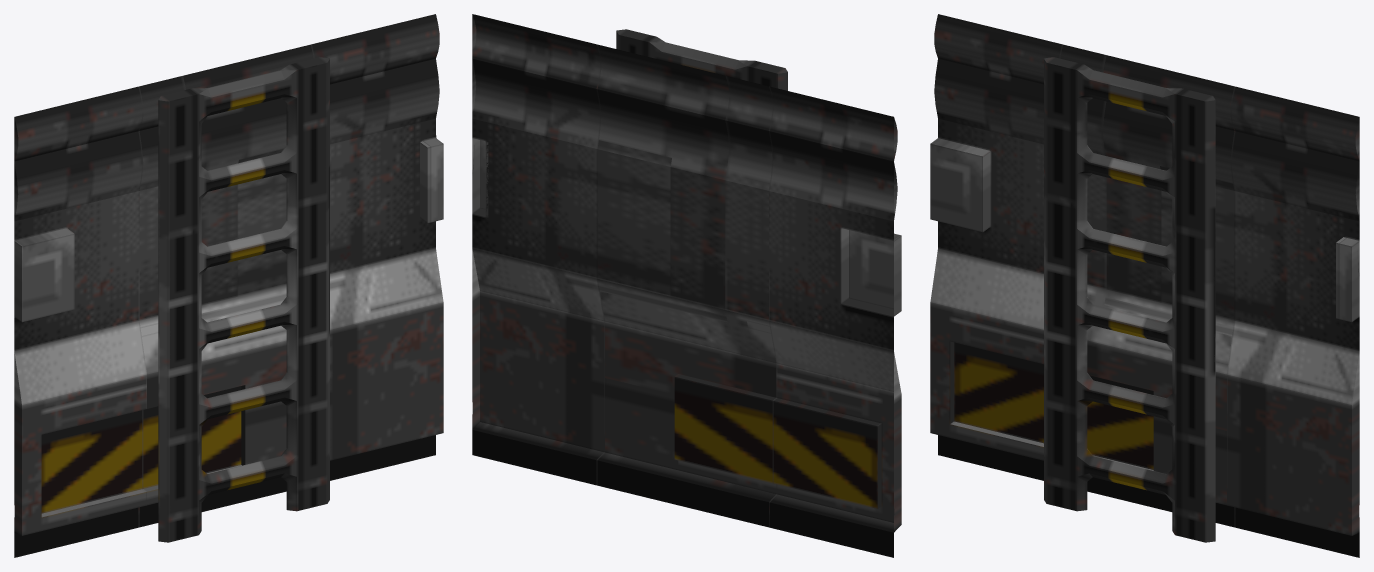
Rendered from maint2_1b.fbx.
The picture shows the model from 3 angles, left to right: view 1: azimuth 30°, elevation 25°; view 2: azimuth 150°, elevation 25°; view 3: azimuth 330°, elevation 25°; orthographic projection.
Parts seen in each view (by area): view 1: maint2_1b_mesh, maint2_1b_mesh_ladder; view 2: maint2_1b_mesh, maint2_1b_mesh_ladder; view 3: maint2_1b_mesh, maint2_1b_mesh_ladder.
Boxes of the visible parts, left/top/right/bottom form: maint2_1b_mesh: left=14, top=14, right=443, bottom=557; maint2_1b_mesh_ladder: left=158, top=57, right=329, bottom=542; maint2_1b_mesh: left=472, top=14, right=901, bottom=557; maint2_1b_mesh_ladder: left=616, top=29, right=787, bottom=90; maint2_1b_mesh: left=930, top=14, right=1359, bottom=557; maint2_1b_mesh_ladder: left=1044, top=57, right=1215, bottom=542.
Size of the model in its own units: 256 by 256 by 24.
